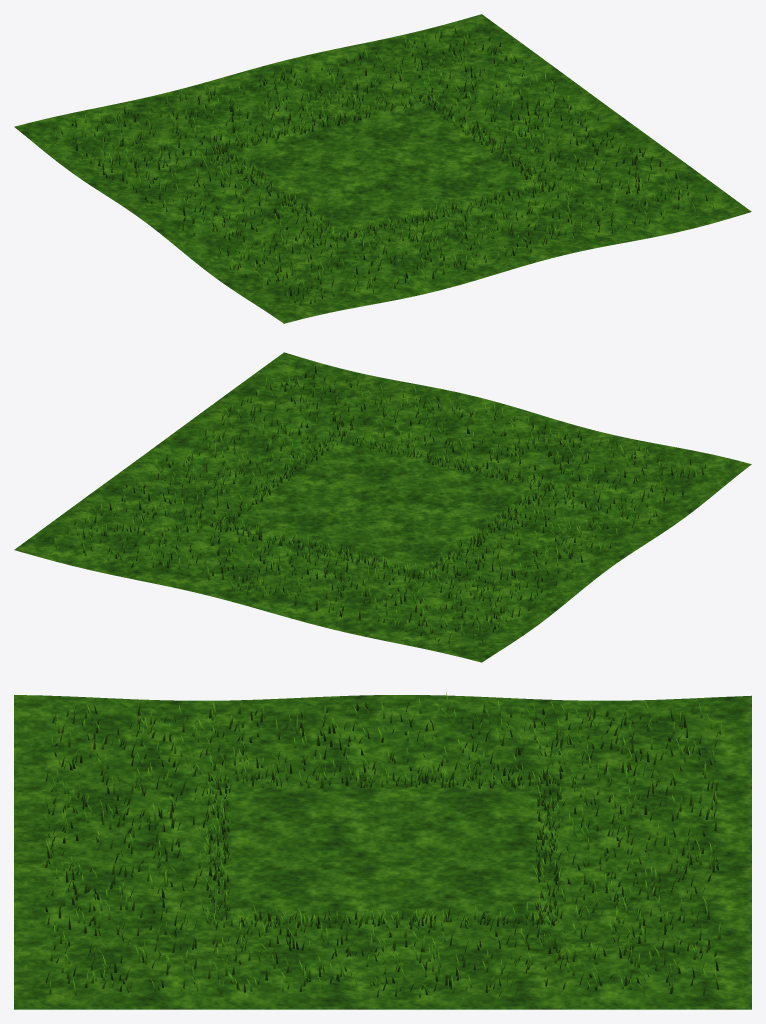
The model's file is grass_patch.glb.
3 views of the same model, one above another, from view 1: azimuth 30°, elevation 25°; view 2: azimuth 150°, elevation 25°; view 3: azimuth 270°, elevation 25° (orthographic). The views are drawn at different scales.
Visible parts, largest first — view 1: Grass_Ground, Grass_Blades; view 2: Grass_Ground, Grass_Blades; view 3: Grass_Ground, Grass_Blades.
Boxes of the visible parts, box(x1,y1,x2,y2) form: Grass_Ground: box(14, 14, 751, 323); Grass_Blades: box(55, 20, 713, 305); Grass_Ground: box(14, 352, 751, 662); Grass_Blades: box(50, 362, 705, 643); Grass_Ground: box(14, 695, 751, 1009); Grass_Blades: box(42, 692, 722, 997).
Size of the model in its own units: 2.3 by 0.0811 by 2.3.
2 materials, 2 textured.
